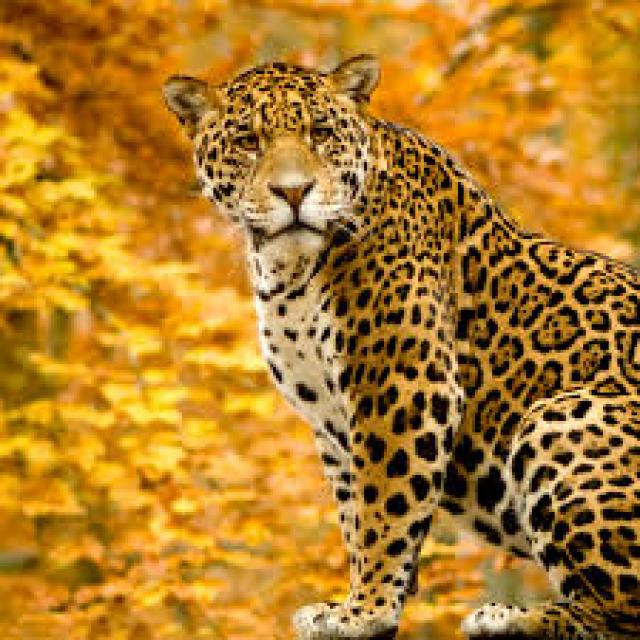Jaguar: (133, 31, 640, 639)
